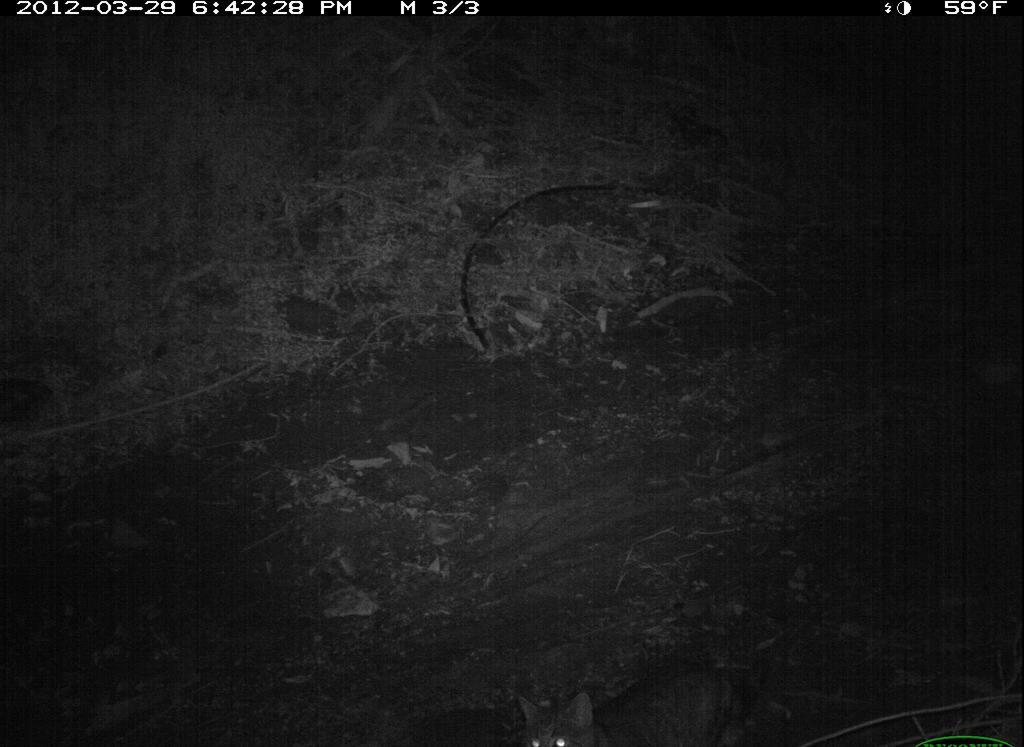cat: (496, 633, 822, 745)
